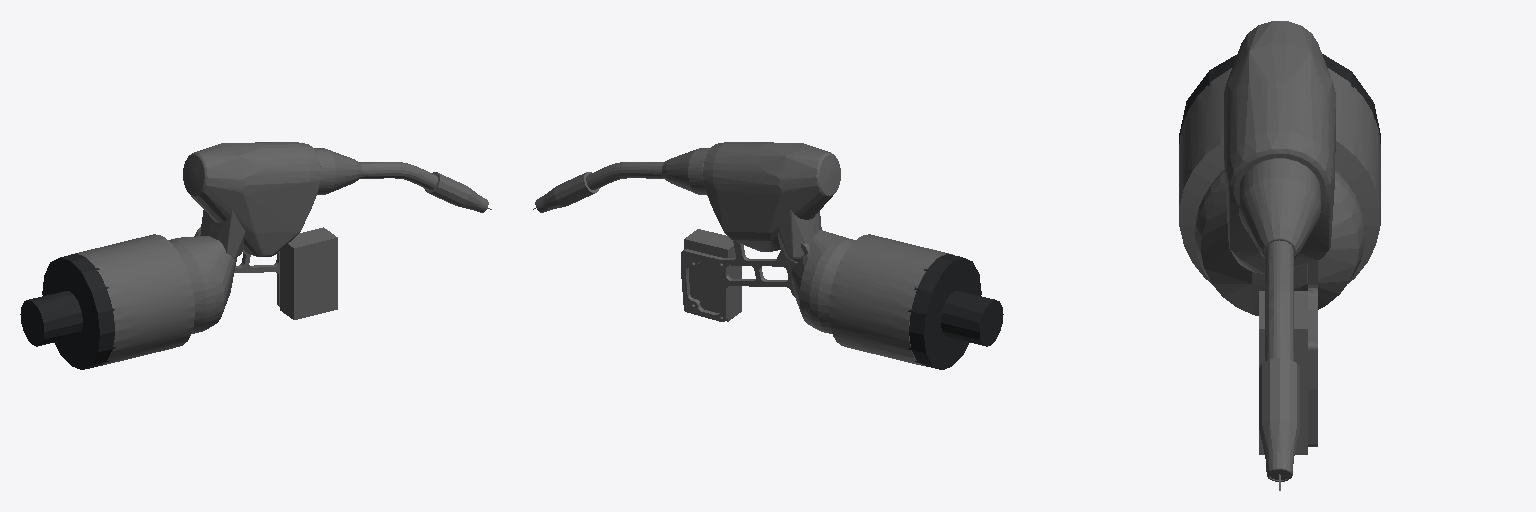
URDF robot description (abb_fixed_waam):
<?xml version="1.0" ?>
<!-- =================================================================================== -->
<!-- |    This document was autogenerated by xacro from waam_setup_macro.xacro         | -->
<!-- |    EDITING THIS FILE BY HAND IS NOT RECOMMENDED                                 | -->
<!-- =================================================================================== -->
<robot name="abb_fixed_waam" xmlns:xacro="http://wiki.ros.org/xacro">
  <!-- Conversion were obtained from http://www.e-paint.co.uk/Lab_values.asp
       unless otherwise stated. -->
  <!-- Conversion were obtained from http://www.e-paint.co.uk/Lab_values.asp
       unless otherwise stated. -->
  <link name="world"/>
  <joint name="world_joint" type="fixed">
    <parent link="world"/>
    <child link="robotA_base_link"/>
    <origin rpy="0.0 0.0 0.0" xyz="0.0 0.0 0.0"/>
  </joint>

  <!-- link list -->
  <link name="robotA_base_link">
    <inertial>
      <origin xyz="0.0 0.0 0.0"/>
      <mass value="120.00000"/>
      <inertia ixx="-4.98000" ixy="-0.00000" ixz="2.70000" iyy="-5.95200" iyz="-0.00000" izz="0.82800"/>
    </inertial>
    <visual>
      <geometry>
        <mesh filename="package://abb_irb4600_40_255/meshes/visual/base_link.stl"/>
      </geometry>
      <material name="">
        <color rgba="0.7725490 0.7803922 0.7686275 1"/>
      </material>
    </visual>
    <collision>
      <geometry>
        <mesh filename="package://abb_irb4600_40_255/meshes/collision/base_link.stl"/>
      </geometry>
    </collision>
  </link>
  <link name="robotA_link_1">
    <inertial>
      <origin xyz="0.18000 0.00000 0.50000"/>
      <mass value="120.00000"/>
      <inertia ixx="-4.98000" ixy="-0.00000" ixz="2.70000" iyy="-5.95200" iyz="-0.00000" izz="0.82800"/>
    </inertial>
    <visual>
      <geometry>
        <mesh filename="package://abb_irb4600_40_255/meshes/visual/link_1.stl"/>
      </geometry>
      <material name="">
        <color rgba="0.7725490 0.7803922 0.7686275 1"/>
      </material>
    </visual>
    <collision>
      <geometry>
        <mesh filename="package://abb_irb4600_40_255/meshes/collision/link_1.stl"/>
      </geometry>
    </collision>
  </link>
  <link name="robotA_link_2">
    <inertial>
      <origin xyz="0.94000 0.08000 -0.34000"/>
      <mass value="120.00000"/>
      <inertia ixx="-2.96000" ixy="2.25600" ixz="-9.58800" iyy="-18.72601" iyz="-0.81600" izz="-14.95000"/>
    </inertial>
    <visual>
      <geometry>
        <mesh filename="package://abb_irb4600_40_255/meshes/visual/link_2.stl"/>
      </geometry>
      <material name="">
        <color rgba="0.7725490 0.7803922 0.7686275 1"/>
      </material>
    </visual>
    <collision>
      <geometry>
        <mesh filename="package://abb_irb4600_40_255/meshes/collision/link_2.stl"/>
      </geometry>
    </collision>
  </link>
  <link name="robotA_link_3">
    <inertial>
      <origin xyz="0.07000 -0.26600 0.08800"/>
      <mass value="120.00000"/>
      <inertia ixx="1.34500" ixy="-0.55860" ixz="0.18480" iyy="4.65068" iyz="-0.70224" izz="2.76032"/>
    </inertial>
    <visual>
      <geometry>
        <mesh filename="package://abb_irb4600_40_255/meshes/visual/link_3.stl"/>
      </geometry>
      <material name="">
        <color rgba="0.7725490 0.7803922 0.7686275 1"/>
      </material>
    </visual>
    <collision>
      <geometry>
        <mesh filename="package://abb_irb4600_40_255/meshes/collision/link_3.stl"/>
      </geometry>
    </collision>
  </link>
  <link name="robotA_link_4">
    <inertial>
      <origin xyz="0.00000 0.00000 1.00000"/>
      <mass value="40.00000"/>
      <inertia ixx="-8.00000" ixy="-0.00000" ixz="-0.00000" iyy="-8.00000" iyz="-0.00000" izz="0.48200"/>
    </inertial>
    <visual>
      <geometry>
        <mesh filename="package://abb_irb4600_40_255/meshes/visual/link_4.stl"/>
      </geometry>
      <material name="">
        <color rgba="0.7725490 0.7803922 0.7686275 1"/>
      </material>
    </visual>
    <collision>
      <geometry>
        <mesh filename="package://abb_irb4600_40_255/meshes/collision/link_4.stl"/>
      </geometry>
    </collision>
  </link>
  <link name="robotA_link_5">
    <inertial>
      <origin xyz="0.14000 0.00000 0.00000"/>
      <mass value="10.00000"/>
      <inertia ixx="0.04000" ixy="-0.00000" ixz="-0.00000" iyy="-0.00900" iyz="-0.00000" izz="-0.00400"/>
    </inertial>
    <visual>
      <geometry>
        <mesh filename="package://abb_irb4600_40_255/meshes/visual/link_5.stl"/>
      </geometry>
      <material name="">
        <color rgba="0.7725490 0.7803922 0.7686275 1"/>
      </material>
    </visual>
    <collision>
      <geometry>
        <mesh filename="package://abb_irb4600_40_255/meshes/collision/link_5.stl"/>
      </geometry>
    </collision>
  </link>
  <link name="robotA_link_6">
    <inertial>
      <origin xyz="0.08100 -0.09100 0.33200"/>
      <mass value="5.00000"/>
      <inertia ixx="-0.29652" ixy="-0.03686" ixz="0.09396" iyy="-0.28792" iyz="-0.10556" izz="-0.04621"/>
    </inertial>
    <visual>
      <geometry>
        <mesh filename="package://abb_irb4600_40_255/meshes/visual/link_6.stl"/>
      </geometry>
      <material name="">
        <color rgba="0.1882353 0.1960784 0.2039216 1"/>
      </material>
    </visual>
    <collision>
      <geometry>
        <mesh filename="package://abb_irb4600_40_255/meshes/collision/link_6.stl"/>
      </geometry>
    </collision>
  </link>
  <link name="robotA_tool0"/>
  <!-- end of link list -->
  <!-- joint list -->
  <joint name="robotA_joint_1" type="revolute">
    <parent link="robotA_base_link"/>
    <child link="robotA_link_1"/>
    <origin rpy="0 0 0 " xyz="0 0 0"/>
    <axis xyz="0 0 1"/>
    <limit effort="100000" lower="-3.14159" upper="3.14159" velocity="2.618"/>
    <dynamics damping="0.2" friction="0"/>
  </joint>
  <joint name="robotA_joint_2" type="revolute">
    <parent link="robotA_link_1"/>
    <child link="robotA_link_2"/>
    <origin rpy="0 -0 0 " xyz="0.175 0 0.495"/>
    <axis xyz="0 1 0"/>
    <limit effort="100000" lower="-1.5708" upper="2.61799" velocity="2.618"/>
    <dynamics damping="0.2" friction="0"/>
  </joint>
  <joint name="robotA_joint_3" type="revolute">
    <parent link="robotA_link_2"/>
    <child link="robotA_link_3"/>
    <origin rpy="0 -0 0 " xyz="0 0 1.095"/>
    <axis xyz="0 1 0"/>
    <limit effort="100000" lower="-3.14159" upper="1.309" velocity="2.618"/>
    <dynamics damping="0.2" friction="0"/>
  </joint>
  <joint name="robotA_joint_4" type="revolute">
    <parent link="robotA_link_3"/>
    <child link="robotA_link_4"/>
    <origin rpy="0 -0 0 " xyz="0.332 0 0.175"/>
    <axis xyz="1 0 0"/>
    <limit effort="10000" lower="-6.98132" upper="6.98132" velocity="6.2832"/>
    <dynamics damping="0.2" friction="0"/>
  </joint>
  <joint name="robotA_joint_5" type="revolute">
    <parent link="robotA_link_4"/>
    <child link="robotA_link_5"/>
    <origin rpy="0 -0 0 " xyz="0.939 0 0"/>
    <axis xyz="0 1 0"/>
    <limit effort="100000" lower="-2.18166" upper="2.0944" velocity="6.2832"/>
    <dynamics damping="0.2" friction="0"/>
  </joint>
  <joint name="robotA_joint_6" type="revolute">
    <parent link="robotA_link_5"/>
    <child link="robotA_link_6"/>
    <origin rpy="0 1.57076 0 " xyz="0.135 0 0"/>
    <axis xyz="0 0 1"/>
    <limit effort="100000" lower="-6.98132" upper="6.98132" velocity="7.854"/>
    <dynamics damping="0.2" friction="0"/>
  </joint>
  <joint name="robotA_joint_6-tool0" type="fixed">
    <parent link="robotA_link_6"/>
    <child link="robotA_tool0"/>
    <origin rpy="0 0 0" xyz="0 0 0"/>
  </joint>
  <!-- end of joint list -->
  <!-- ROS base_link to ABB World Coordinates transform -->
  <link name="robotA_base"/>
  <joint name="robotA_base_link-base" type="fixed">
    <origin rpy="0 0 0" xyz="0 0 0"/>
    <parent link="robotA_base_link"/>
    <child link="robotA_base"/>
  </joint>

  <!-- link list -->

  <joint name="robotA_waam_joint" type="fixed">
    <parent link="robotA_tool0"/>
    <child link="robotA_waam_tool"/>
    <origin rpy="0 0 0" xyz="0 0 0"/>
  </joint>
  <link name="robotA_waam_tool">
    <visual>
      <geometry>
        <mesh filename="package://abb_fixed_waam/meshes/visual/waam_tool.stl"/>
      </geometry>
      <material name="">
        <color rgba="0.42 0.42 0.42 1.0"/>
      </material>
    </visual>
    <collision>
      <geometry>
        <mesh filename="package://abb_fixed_waam/meshes/collision/waam_tool.obj"/>
      </geometry>
    </collision>
  </link>
  <!-- TCP frame -->
  <joint name="robotA_waam_tcp_joint" type="fixed">
    <origin rpy="0.591366 -0.000922 1.570177" xyz="-0.002241 -0.000202 0.505922"/>
    <parent link="robotA_waam_tool"/>
    <child link="robotA_waam_tcp"/>
  </joint>
  <link name="robotA_waam_tcp"/>
</robot>

--- Render facts (derived) ---
3 views of the same robot in one strip: view 1: azimuth 30°, elevation 25°; view 2: azimuth 150°, elevation 25°; view 3: azimuth 270°, elevation 25° (orthographic).
Model abb_fixed_waam with 12 links and 11 joints (6 revolute, 5 fixed), rooted at world, posed all joints at 0.
Visible links, largest first — view 1: robotA_waam_tool, robotA_link_6; view 2: robotA_waam_tool, robotA_link_6; view 3: robotA_waam_tool, robotA_link_6.
Boxes of the visible links, left/top/right/bottom form: robotA_waam_tool: left=71, top=142, right=491, bottom=365; robotA_link_6: left=20, top=253, right=115, bottom=369; robotA_waam_tool: left=533, top=142, right=952, bottom=365; robotA_link_6: left=908, top=253, right=1003, bottom=369; robotA_waam_tool: left=1179, top=21, right=1380, bottom=490; robotA_link_6: left=1179, top=54, right=1380, bottom=143.
Bounding box of the posed robot: 0.5733 × 0.125 × 0.2191 m (x, y, z).
2 mesh visuals loaded from 8 distinct referenced files (2 binary STL); not drawn: 6 (reference not matched to a file when rendering).